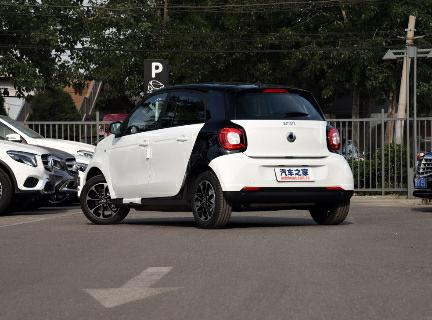smart-forfour: (75, 86, 358, 229)
